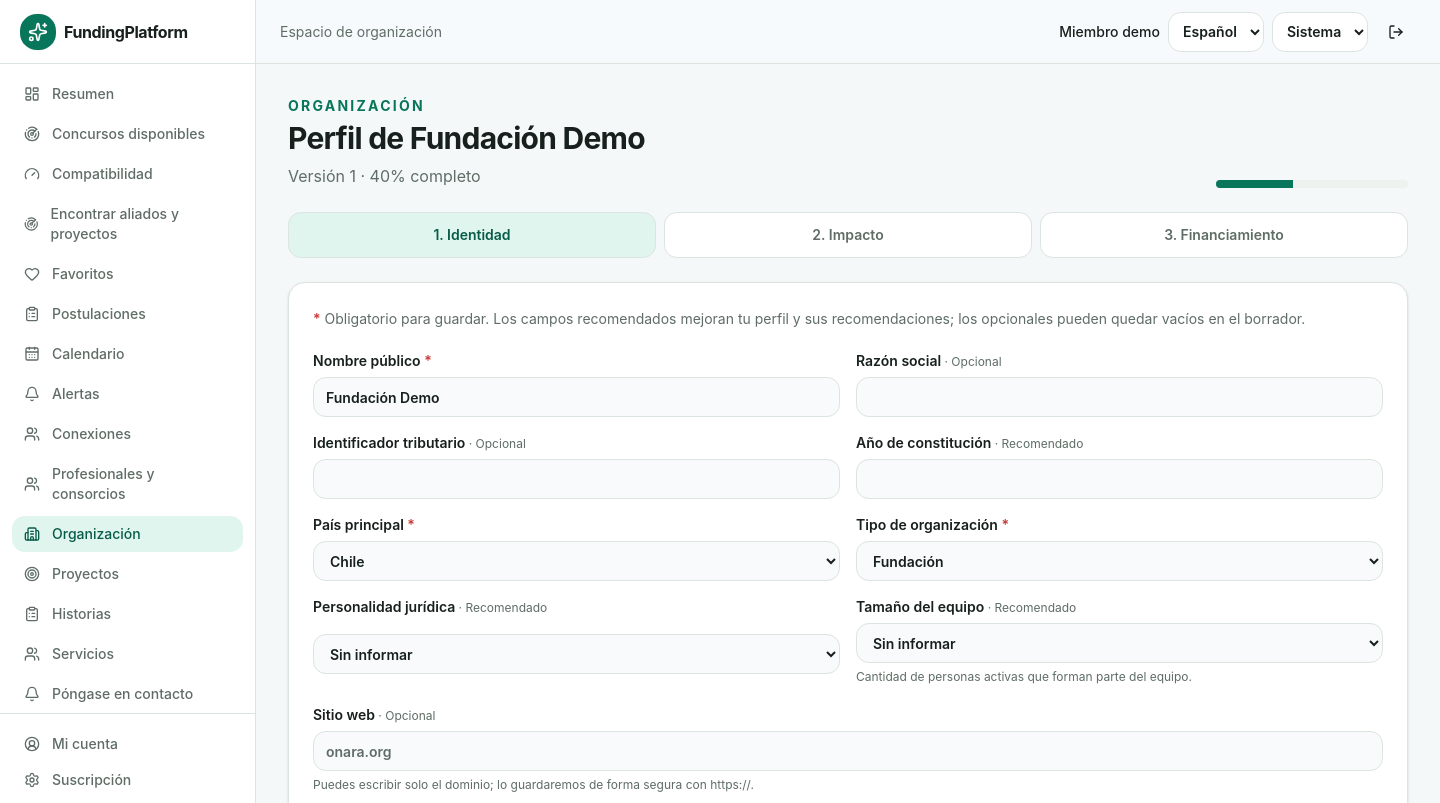
perfil de organización › envía If-Match al guardar un perfil existente
Replace the text in the field labelled "Nombre público *" with "Fundación Actualizada": x=576, y=397 [313, 377, 840, 417]
(page scrolled)
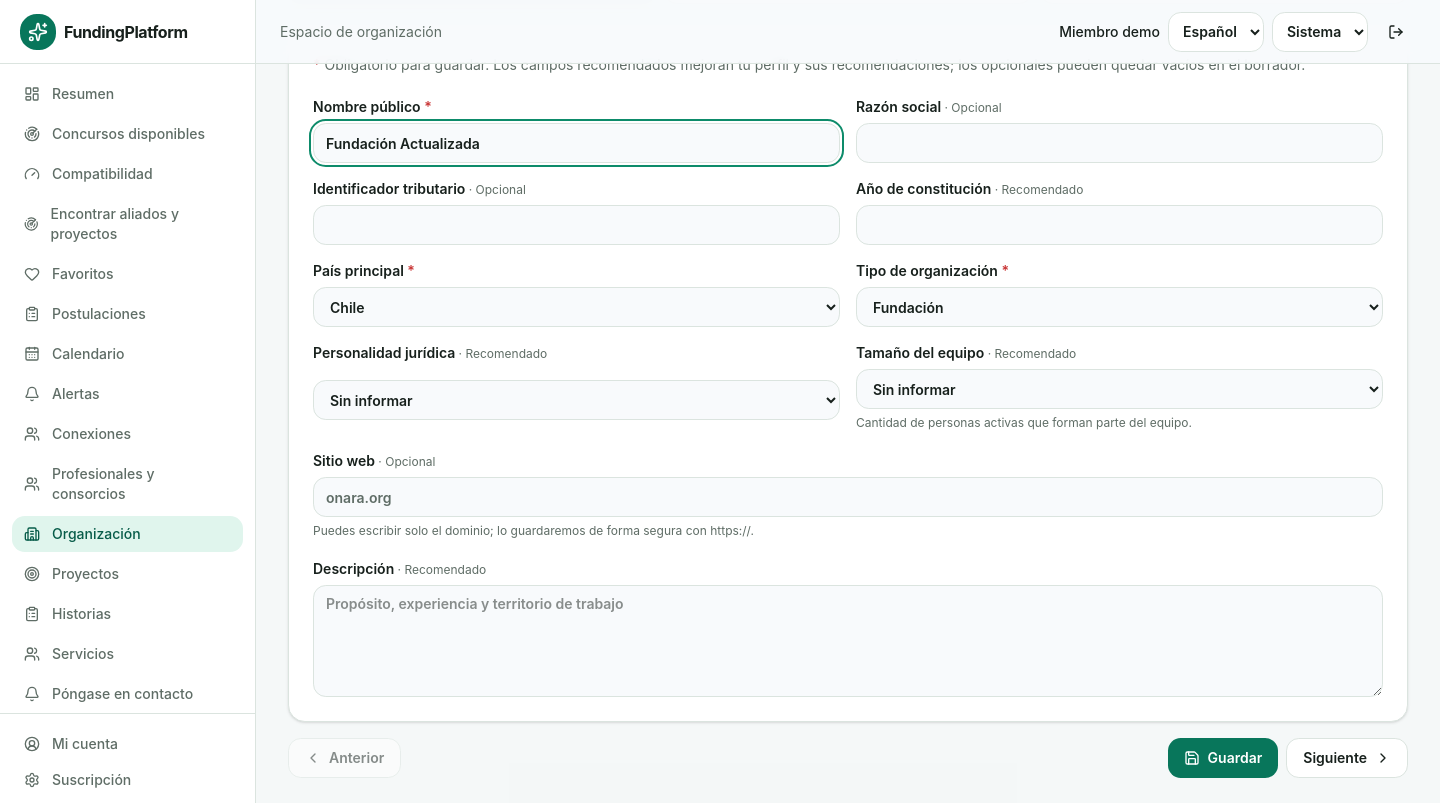
Click the button "Guardar": x=1223, y=758 [1168, 738, 1278, 778]
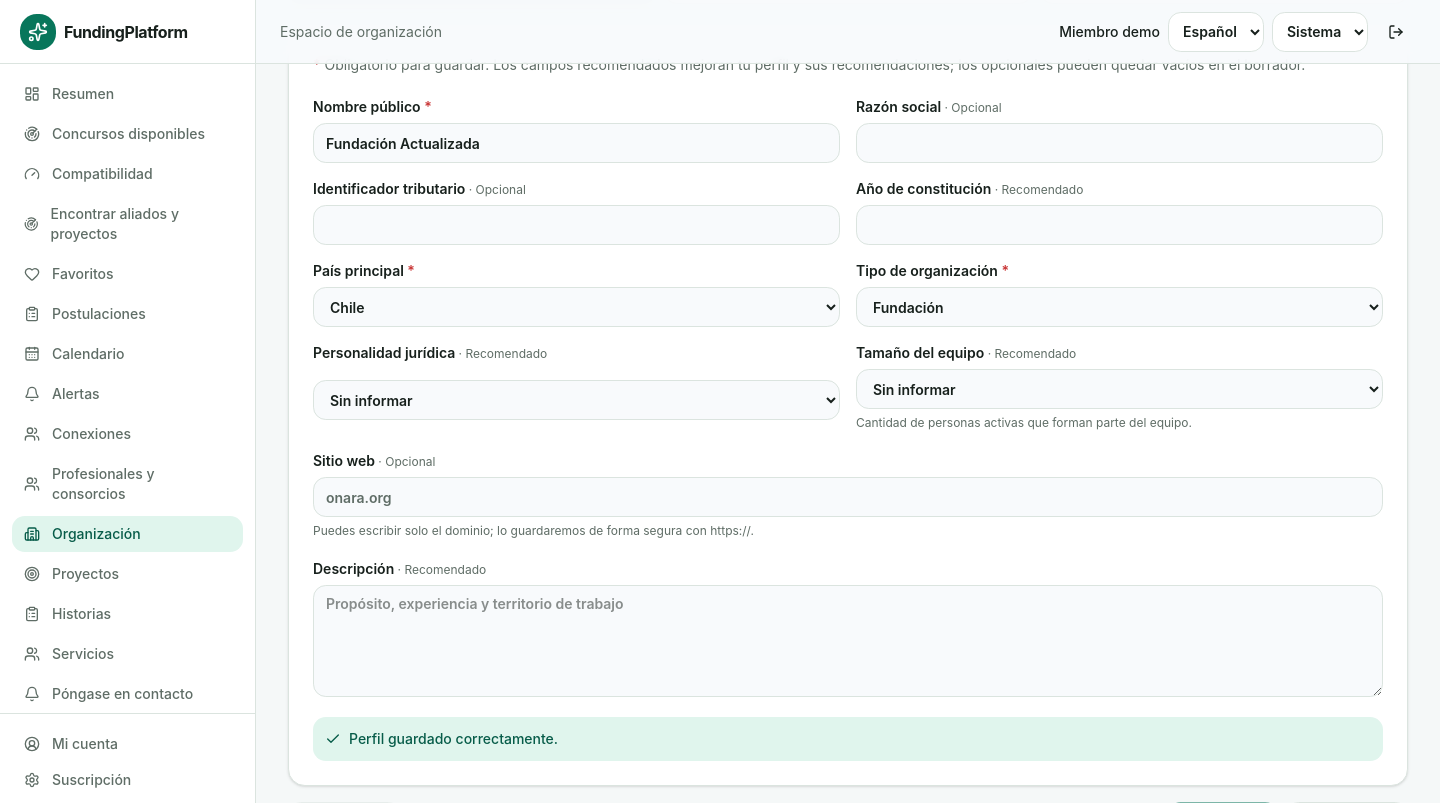
Check: the text "Perfil guardado correctamente." is shown, box [313, 717, 1383, 761]
